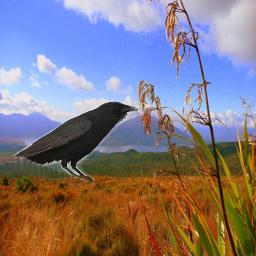Crow: (13, 100, 139, 183)
